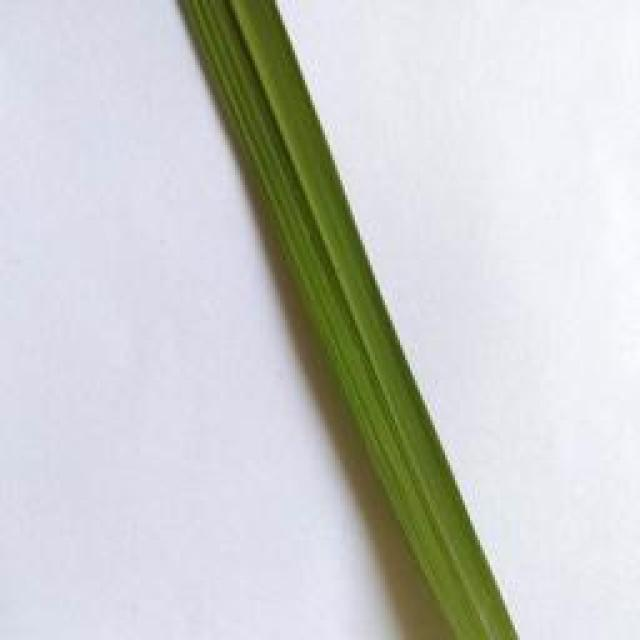Healthy-Plant: (168, 0, 532, 640)
